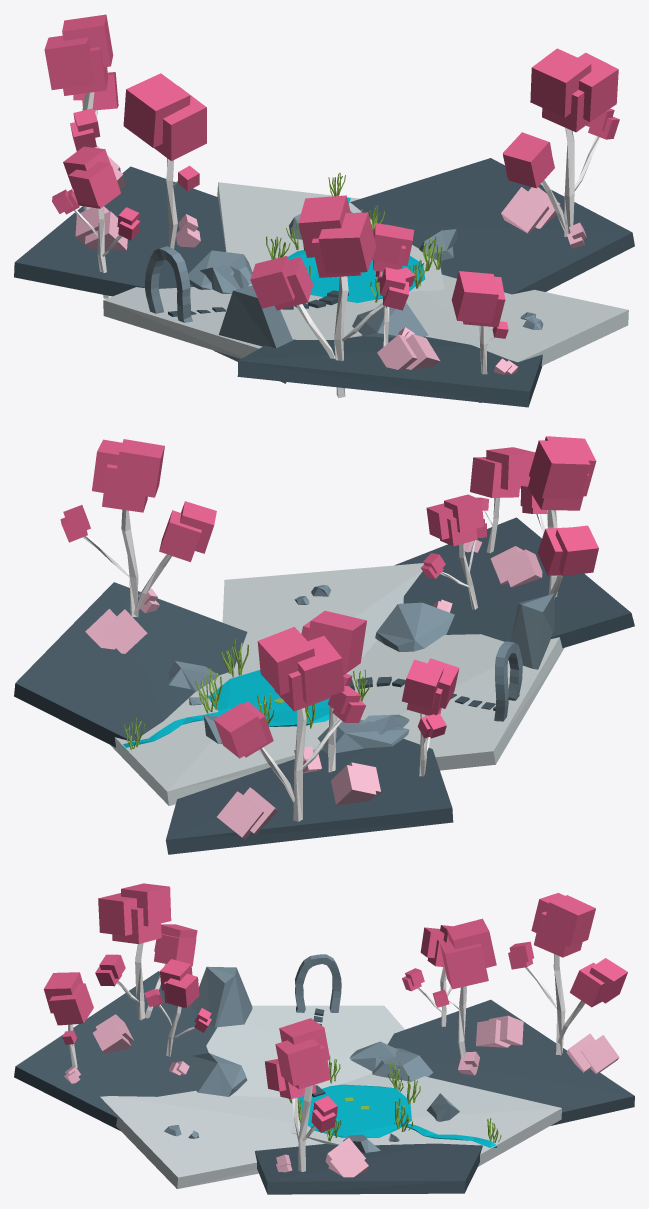
Rendered from SimplivitySprings.glb.
The picture shows the model from 3 angles, top to bottom: view 1: azimuth 30°, elevation 25°; view 2: azimuth 150°, elevation 25°; view 3: azimuth 270°, elevation 25°; orthographic projection. The views are drawn at different scales.
Visible parts, largest first — view 1: group1554027304, group1832753327, group545318518, group805161109, group211415205, group1404941618, group185026894, group1033656833, group506122320, group143380342, group885813434, group649507194 (+27 smaller); view 2: group1554027304, group545318518, group211415205, group1832753327, group805161109, group1404941618, group1748900321, group1910645407, group347276412, group1033656833, group506122320, group1713474330 (+30 smaller); view 3: group1832753327, group805161109, group545318518, group1554027304, group211415205, group1404941618, group1910645407, group1033656833, group1713474330, group347276412, group422174421, group649507194 (+31 smaller).
Boxes of the visible parts, box(x1,y1,x2,y2) form: group1554027304: box(350, 158, 634, 294); group1832753327: box(237, 336, 542, 407); group545318518: box(14, 166, 225, 296); group805161109: box(360, 274, 628, 365); group211415205: box(103, 284, 373, 358); group1404941618: box(217, 182, 444, 292); group185026894: box(123, 73, 190, 147); group1033656833: box(214, 285, 292, 383); group506122320: box(530, 48, 591, 117); group143380342: box(318, 212, 376, 273); group885813434: box(44, 35, 94, 89); group649507194: box(154, 86, 206, 160); group1554027304: box(14, 582, 247, 747); group545318518: box(165, 738, 453, 854); group211415205: box(348, 634, 564, 770); group1832753327: box(394, 517, 634, 647); group805161109: box(222, 563, 423, 674); group1404941618: box(110, 662, 338, 805); group1748900321: box(529, 440, 590, 499); group1910645407: box(208, 670, 329, 726); group347276412: box(375, 602, 454, 651); group1033656833: box(508, 593, 554, 669); group506122320: box(113, 439, 164, 497); group1713474330: box(257, 626, 314, 695); group1832753327: box(14, 971, 217, 1130); group805161109: box(100, 1090, 325, 1188); group545318518: box(387, 999, 634, 1125); group1554027304: box(255, 1143, 482, 1194); group211415205: box(206, 1005, 404, 1097); group1404941618: box(290, 1073, 561, 1166); group1910645407: box(297, 1084, 411, 1137); group1033656833: box(191, 966, 252, 1027); group1713474330: box(541, 895, 595, 946); group347276412: box(192, 1053, 247, 1096); group422174421: box(275, 1039, 325, 1086); group649507194: box(440, 941, 488, 989).
Size of the model in its own units: 4.82 by 2.12 by 6.29.
